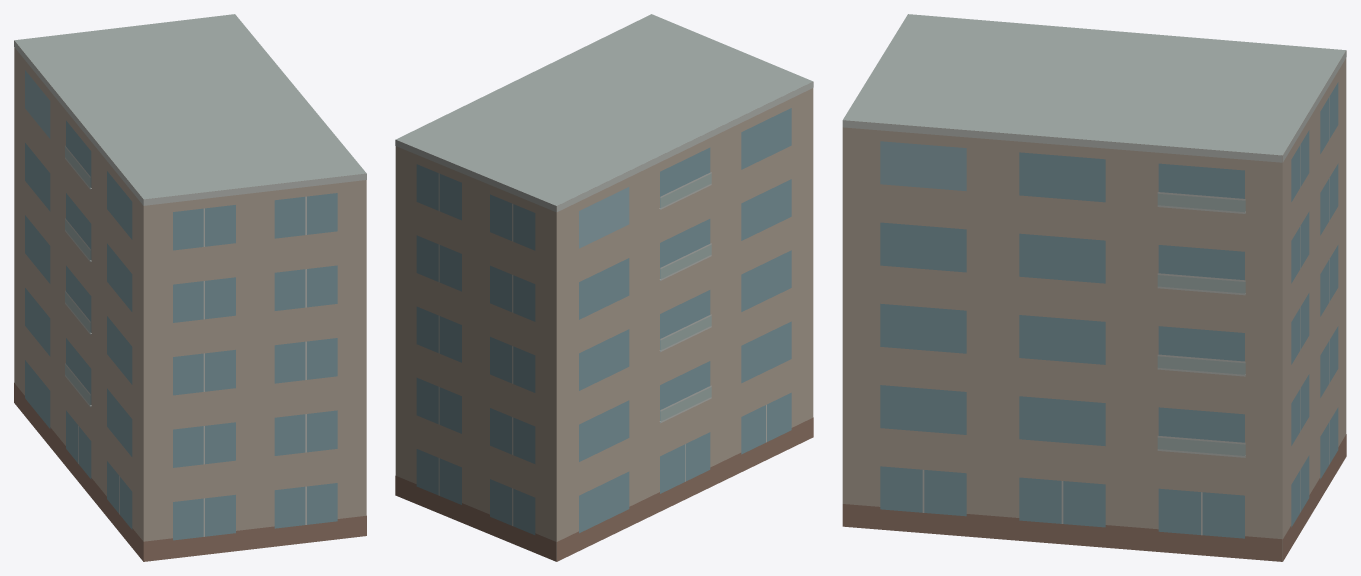
Rendered from survey-upis-32980652.glb.
The picture shows the model from 3 angles, left to right: view 1: azimuth 30°, elevation 25°; view 2: azimuth 150°, elevation 25°; view 3: azimuth 270°, elevation 25°; orthographic projection. The views are drawn at different scales.
Parts seen in each view (by area): view 1: survey-upis-32980652.tmp; view 2: survey-upis-32980652.tmp; view 3: survey-upis-32980652.tmp.
Part boxes in pixels (x1=…): survey-upis-32980652.tmp: x1=14, y1=14, x2=366, y2=561; survey-upis-32980652.tmp: x1=395, y1=14, x2=813, y2=561; survey-upis-32980652.tmp: x1=842, y1=14, x2=1346, y2=561.
Bounding box in the file's own units: 10.24 × 13.7 × 15.4.
